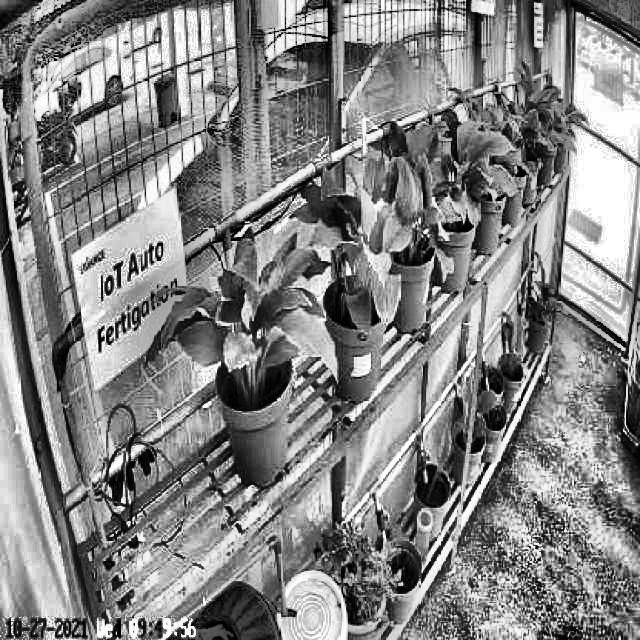plants: (144, 232, 342, 396), (290, 172, 401, 334), (358, 122, 458, 284), (406, 112, 526, 218)
